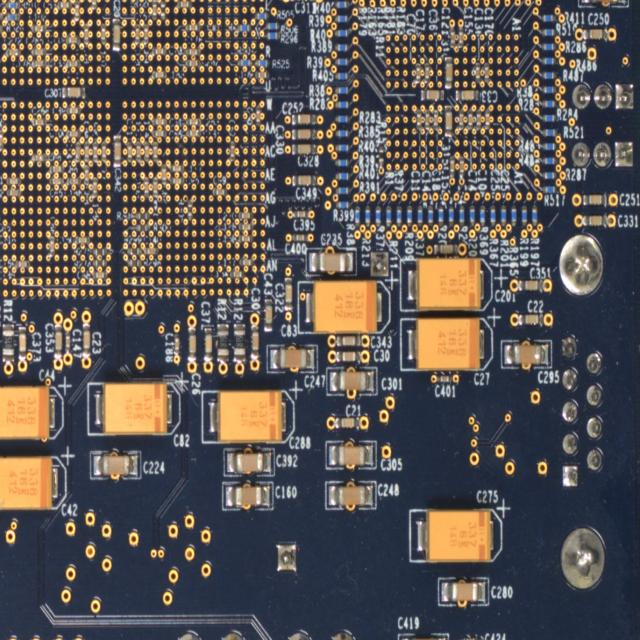capacitor: (88, 450, 141, 480), (222, 447, 275, 477), (220, 481, 274, 510), (500, 339, 552, 369), (325, 439, 377, 469), (324, 480, 376, 510), (437, 576, 489, 606), (325, 366, 378, 395), (266, 344, 318, 373), (304, 247, 357, 275), (576, 0, 629, 8), (396, 632, 449, 640), (582, 27, 608, 41), (81, 322, 91, 358), (442, 104, 453, 136), (291, 126, 316, 140), (442, 55, 452, 89), (334, 416, 360, 429), (518, 278, 542, 292), (582, 192, 607, 205), (61, 85, 86, 98), (518, 313, 543, 326), (187, 326, 196, 361), (203, 327, 212, 362), (454, 88, 478, 101), (582, 213, 606, 226), (111, 18, 120, 52), (291, 174, 316, 186), (291, 142, 315, 154), (18, 325, 26, 361), (54, 323, 62, 359), (336, 350, 360, 362), (290, 113, 316, 124), (250, 324, 258, 359), (336, 335, 361, 346), (264, 298, 272, 332), (284, 276, 292, 310), (420, 89, 444, 100), (113, 134, 121, 166), (64, 57, 81, 69), (99, 22, 107, 44), (30, 22, 46, 33), (4, 46, 20, 57), (65, 34, 80, 45), (184, 47, 202, 56), (91, 140, 98, 163), (134, 141, 141, 164), (176, 0, 192, 10), (184, 22, 200, 32), (151, 45, 167, 55), (5, 176, 21, 186), (74, 235, 90, 245), (142, 23, 149, 45), (466, 108, 473, 130), (83, 140, 90, 162), (184, 58, 201, 67), (184, 117, 201, 126), (151, 128, 166, 138), (238, 210, 253, 220), (82, 23, 89, 44), (91, 176, 98, 197), (160, 165, 167, 186), (151, 176, 158, 197), (152, 70, 168, 79), (458, 155, 464, 179), (56, 0, 72, 9), (30, 47, 46, 56), (30, 58, 46, 67), (30, 153, 46, 162), (65, 177, 81, 186), (150, 117, 166, 126), (211, 187, 227, 196), (168, 177, 184, 186), (66, 129, 80, 139), (432, 108, 438, 131), (448, 155, 454, 178), (64, 330, 70, 353), (436, 375, 453, 383), (254, 70, 269, 79), (49, 164, 64, 173), (238, 222, 253, 231), (238, 233, 253, 242), (229, 269, 244, 278), (474, 61, 480, 83), (458, 108, 464, 130), (484, 108, 490, 130), (424, 108, 430, 130), (74, 0, 80, 22), (143, 140, 149, 162), (142, 176, 148, 198), (173, 332, 179, 354), (48, 177, 64, 185), (238, 258, 254, 266), (134, 23, 140, 44), (423, 61, 429, 82), (416, 108, 422, 129), (32, 117, 46, 126), (75, 141, 81, 162), (100, 140, 106, 161), (83, 165, 89, 186), (126, 141, 132, 162), (186, 128, 200, 137), (254, 105, 260, 126), (144, 246, 158, 255), (152, 0, 158, 20), (449, 28, 455, 48), (6, 188, 21, 196), (292, 233, 307, 241), (484, 61, 489, 84), (229, 139, 234, 162), (292, 210, 308, 217), (66, 106, 80, 114), (169, 164, 183, 172), (476, 108, 481, 130), (415, 62, 420, 84), (458, 26, 463, 47), (49, 235, 54, 256), (92, 271, 107, 278), (152, 141, 157, 162), (0, 128, 3, 151), (462, 636, 477, 640), (91, 0, 96, 11), (290, 0, 314, 1)
component text: (238, 398, 277, 428), (122, 392, 162, 421), (448, 519, 486, 548), (438, 268, 476, 296), (333, 288, 365, 321), (436, 325, 467, 357), (5, 396, 37, 426), (7, 466, 39, 496), (234, 334, 243, 348), (4, 335, 12, 349), (218, 334, 226, 348)
electrolytic capacitor: (398, 316, 494, 372), (200, 388, 295, 444), (407, 507, 503, 562), (86, 381, 180, 436), (296, 278, 390, 333), (399, 257, 492, 311), (0, 454, 67, 510), (0, 384, 64, 440)
pins: (560, 331, 605, 494), (570, 82, 636, 169), (557, 523, 609, 592), (558, 232, 604, 298), (284, 628, 356, 640), (274, 540, 298, 574), (174, 629, 246, 640), (369, 250, 389, 277)
resistor: (216, 322, 230, 362), (232, 322, 246, 362), (2, 322, 15, 363), (433, 244, 458, 254), (394, 205, 403, 228), (488, 204, 496, 226), (426, 204, 434, 226), (253, 58, 270, 68), (333, 42, 350, 52), (436, 203, 443, 227), (509, 203, 516, 226), (499, 204, 506, 227), (236, 22, 252, 32), (236, 58, 252, 68), (540, 27, 556, 37), (457, 204, 464, 226), (416, 204, 423, 226), (264, 30, 279, 40), (541, 112, 556, 122), (335, 128, 350, 138), (92, 258, 107, 268), (540, 13, 556, 22), (540, 184, 556, 193), (334, 114, 350, 123), (334, 171, 350, 180), (406, 204, 412, 228), (4, 0, 20, 9), (264, 20, 278, 30), (542, 127, 556, 137), (530, 205, 536, 228), (468, 204, 474, 227), (541, 70, 556, 79), (541, 84, 556, 93), (541, 141, 556, 150), (334, 28, 349, 37), (334, 57, 349, 66), (334, 85, 349, 94), (334, 185, 349, 194), (364, 205, 370, 227), (385, 204, 391, 226), (479, 204, 485, 226), (93, 247, 106, 257), (334, 71, 350, 79), (334, 143, 350, 151), (334, 200, 350, 208), (126, 247, 142, 255), (254, 11, 268, 20), (541, 41, 555, 50), (541, 170, 555, 179), (354, 205, 360, 226), (374, 205, 380, 226), (520, 204, 526, 225), (6, 12, 20, 21), (186, 199, 192, 220), (135, 211, 149, 220), (541, 56, 556, 64), (334, 0, 349, 8), (334, 14, 349, 22), (334, 158, 349, 166), (542, 156, 556, 164), (334, 101, 350, 108), (127, 259, 141, 267), (448, 205, 453, 227), (541, 100, 556, 107), (135, 224, 148, 232), (378, 145, 383, 165), (160, 0, 165, 19), (0, 11, 2, 21), (0, 23, 2, 32)
